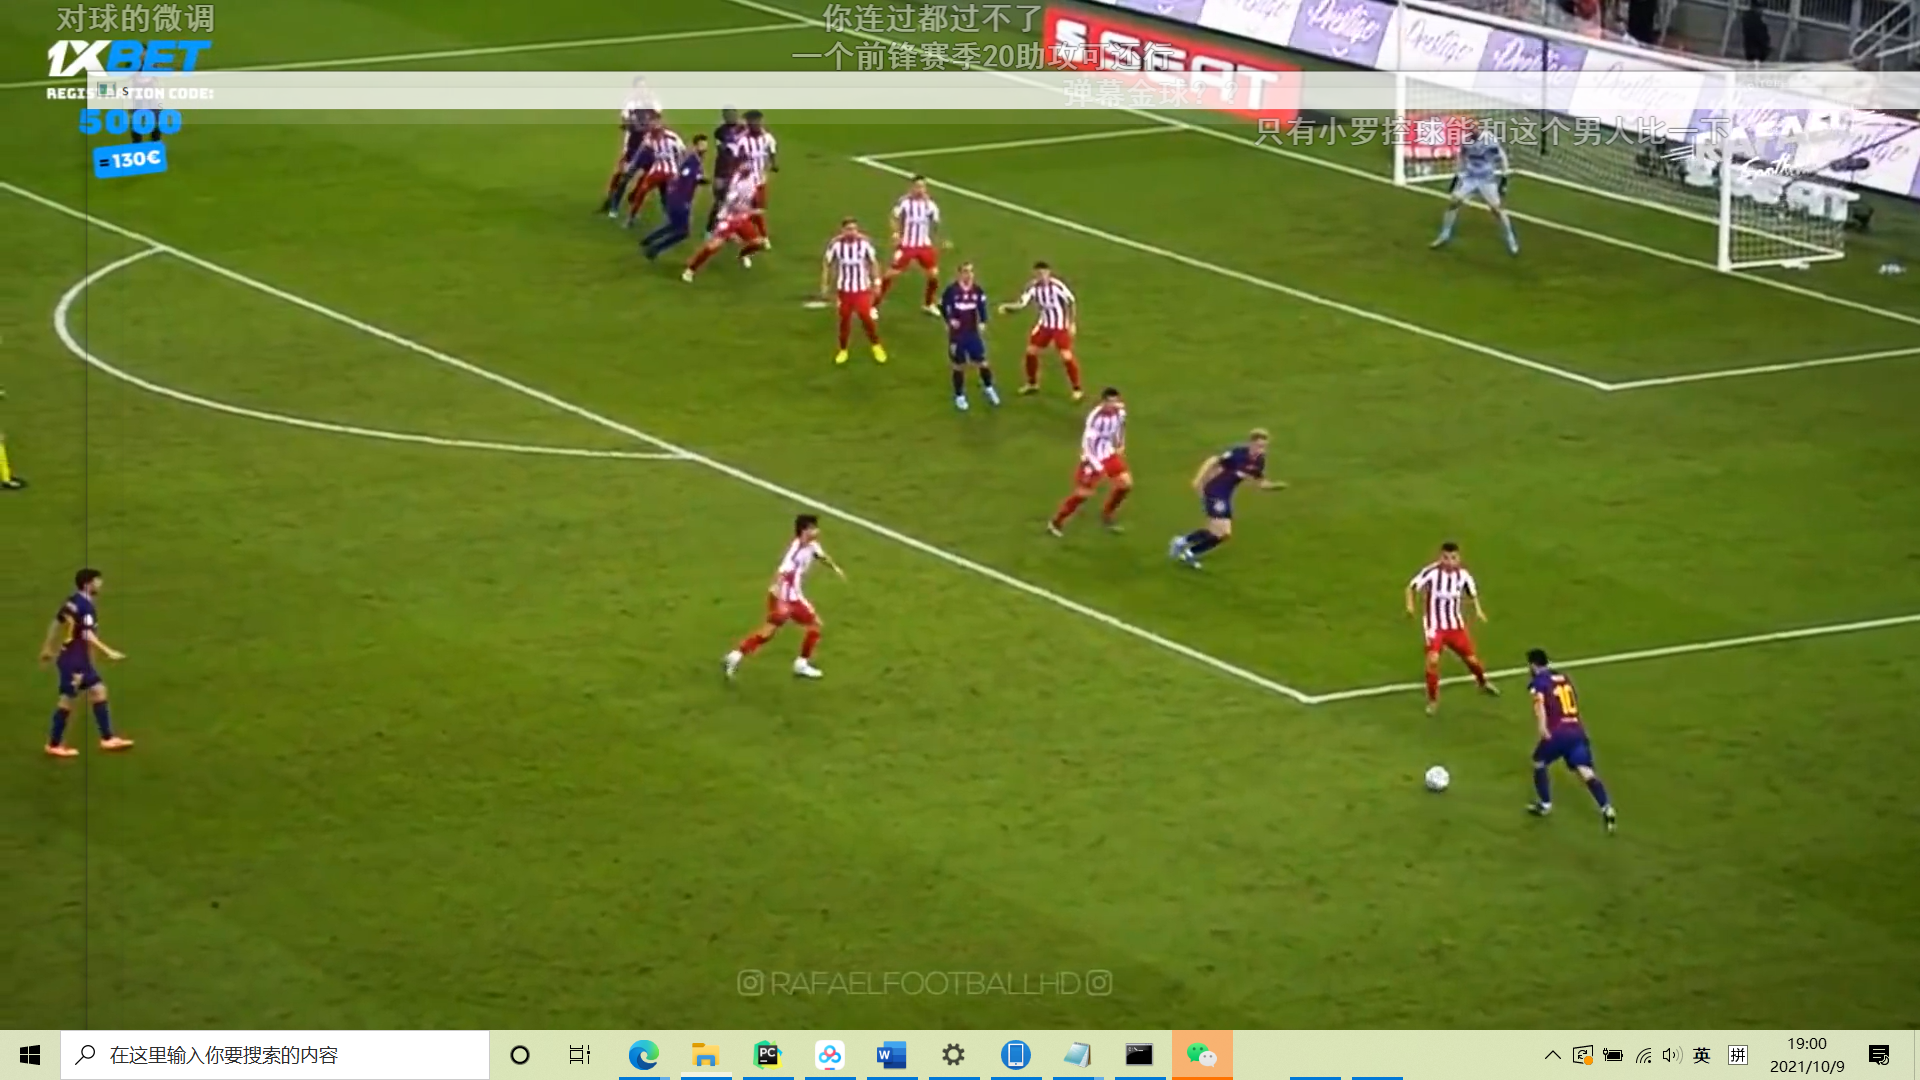ft: (1423, 764, 1453, 794)
